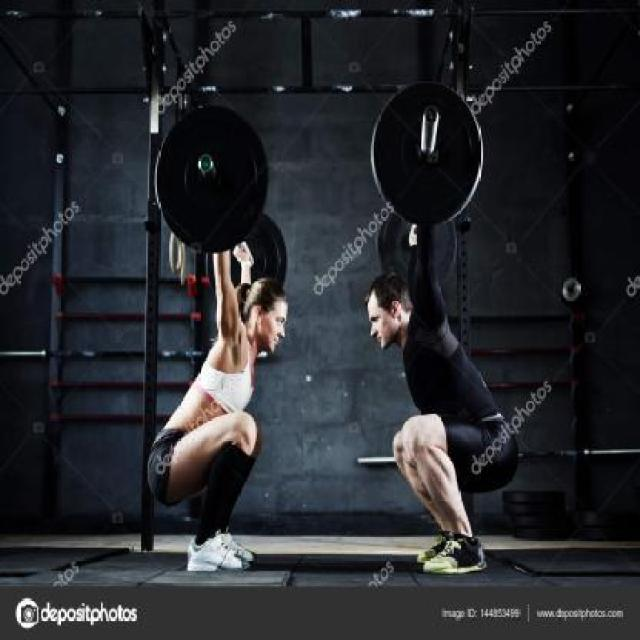barbell: (155, 99, 275, 262), (369, 81, 490, 235)
